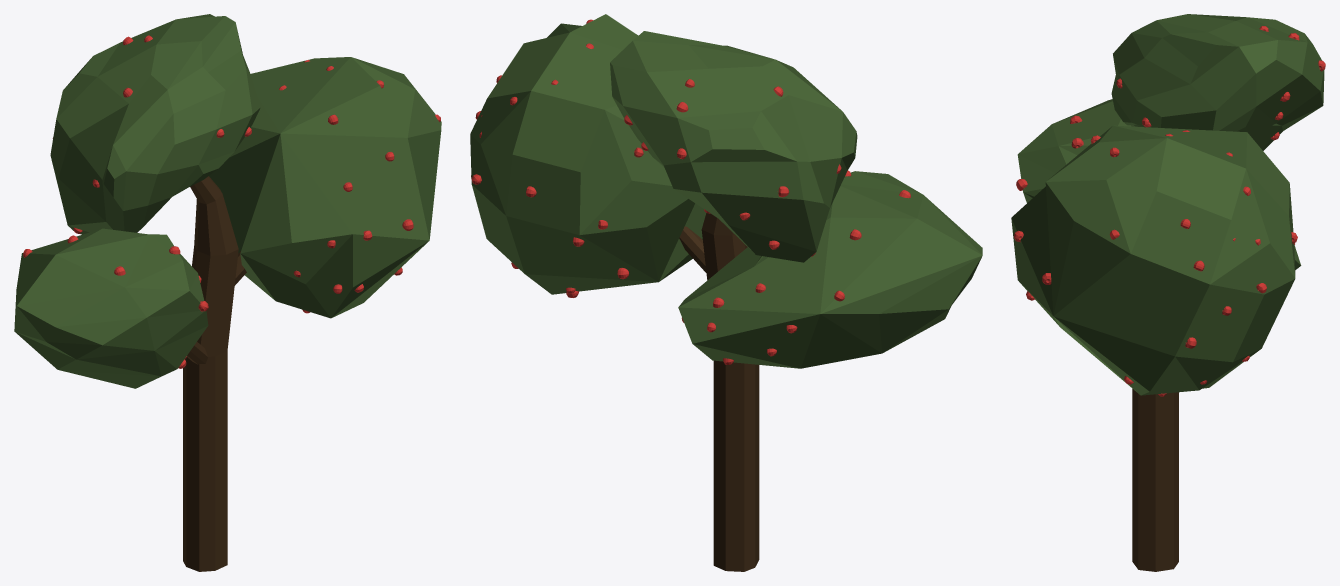
Rendered from Apple_Tree_1A.fbx.
The picture shows the model from 3 angles, left to right: view 1: azimuth 30°, elevation 25°; view 2: azimuth 150°, elevation 25°; view 3: azimuth 270°, elevation 25°; orthographic projection. The views are drawn at different scales.
Parts seen in each view (by area): view 1: Apple_Tree_1A; view 2: Apple_Tree_1A; view 3: Apple_Tree_1A.
Part boxes in pixels (x1=…): Apple_Tree_1A: x1=14, y1=14, x2=441, y2=571; Apple_Tree_1A: x1=470, y1=14, x2=982, y2=571; Apple_Tree_1A: x1=1011, y1=14, x2=1325, y2=571.
Bounding box in the file's own units: 7.47 × 8.28 × 4.3.
